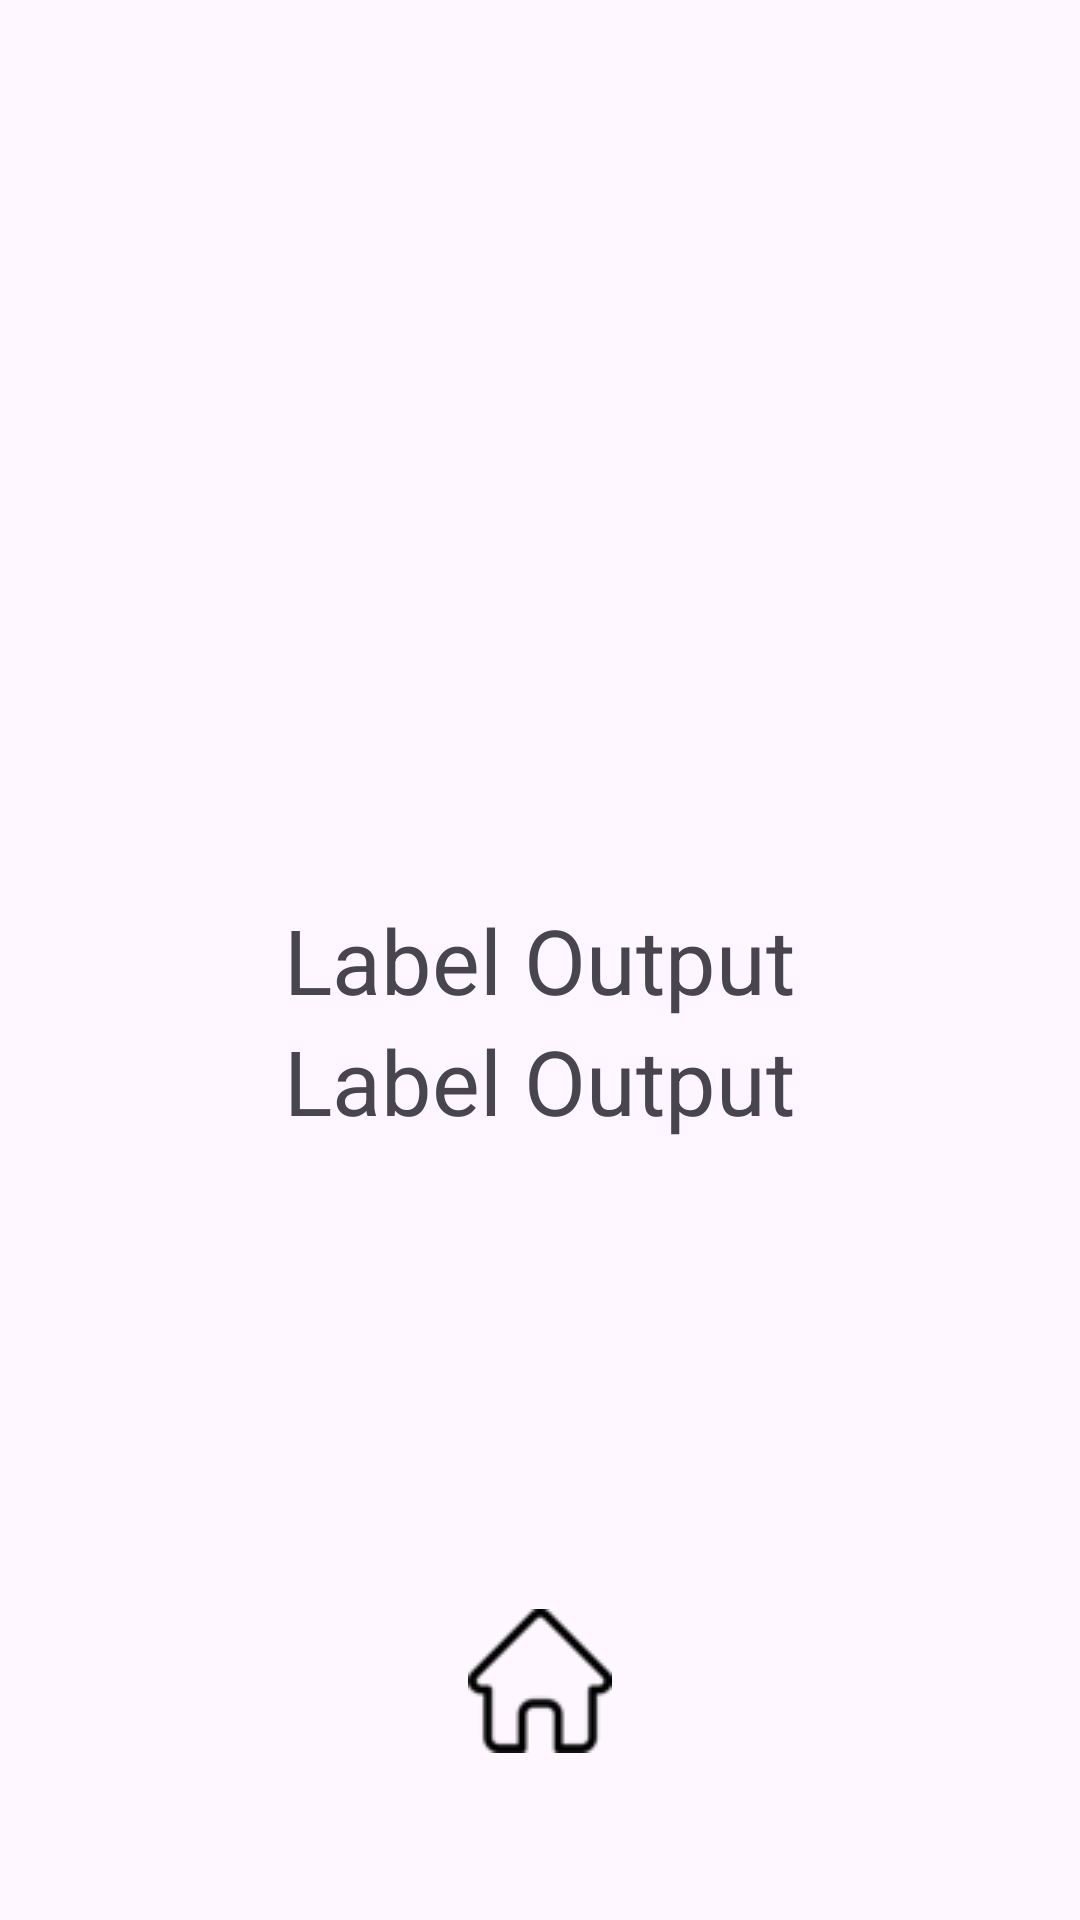

Locate icon controls on the screen. Image size 1080px×1920px, boxes as (x1, y1, x2, y2).
homee: (468, 1609, 612, 1753)
